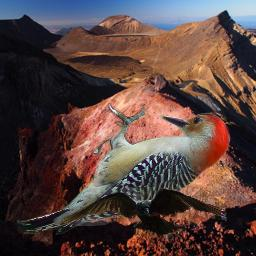Crow: (61, 187, 227, 245)
Woodpecker: (17, 103, 233, 238)
